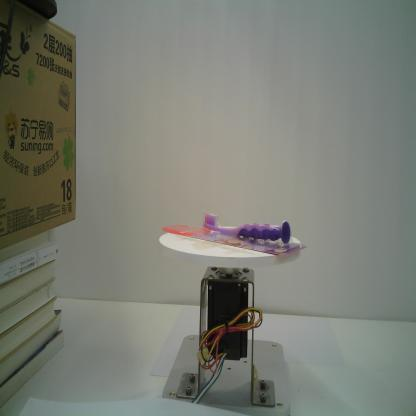Personal Hygiene: (162, 211, 307, 257)
